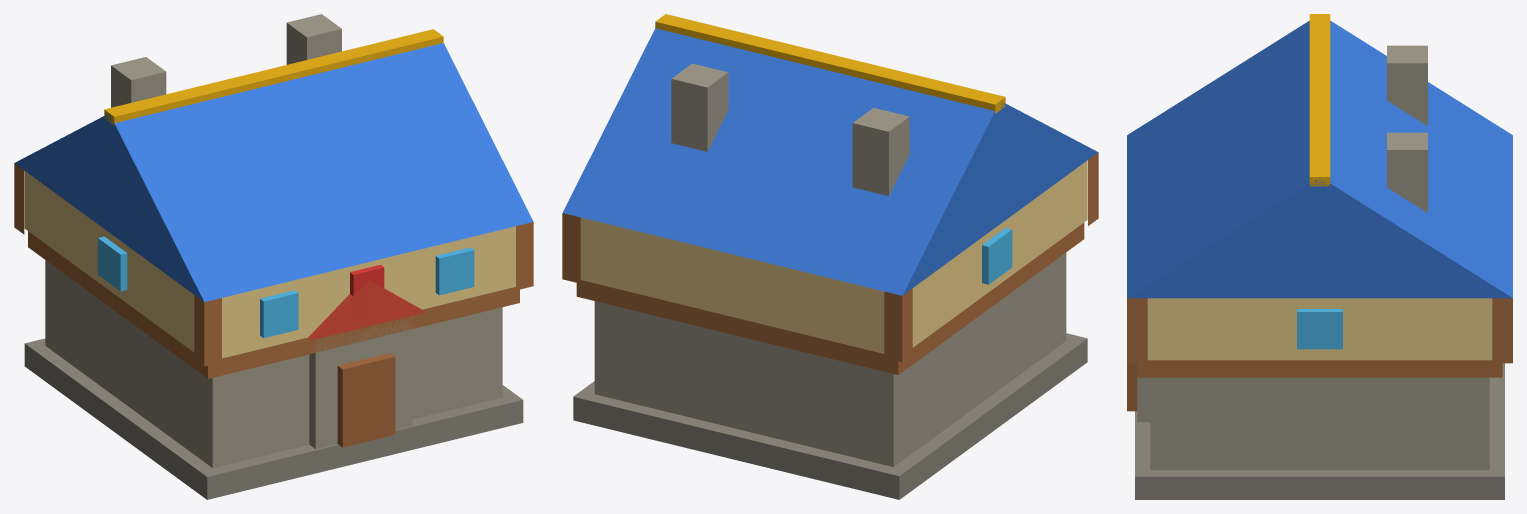
File: house_t3_v4.glb
3 views of the same model, side by side, from view 1: azimuth 30°, elevation 25°; view 2: azimuth 150°, elevation 25°; view 3: azimuth 270°, elevation 25° (orthographic). The views are drawn at different scales.
Parts seen in each view (by area): view 1: house_t3_v4; view 2: house_t3_v4; view 3: house_t3_v4.
Boxes of the visible parts, x1=… form: house_t3_v4: x1=14, y1=14, x2=533, y2=499; house_t3_v4: x1=562, y1=14, x2=1098, y2=499; house_t3_v4: x1=1127, y1=14, x2=1512, y2=499.
Bounding box in the file's own units: 0.75 × 0.7 × 0.75.
1 material, 1 textured.
